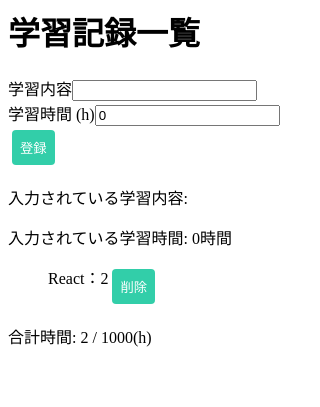
Test: StudyRecordList › 新規で学習記録が登録できること
Expected: the heading "学習記録一覧" is shown, [8,16,200,52]
Expected: the number of list items is 1, [48,269,155,304]
In the field: (164, 90) [72,80,257,101], type "Jest"
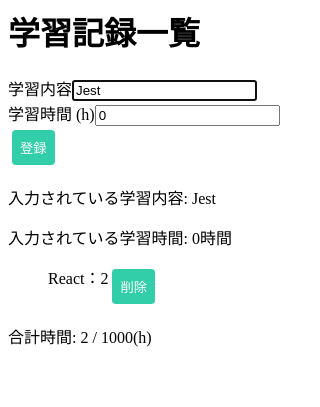
Replace the text in the number field with "3": (187, 115) [95,105,280,126]
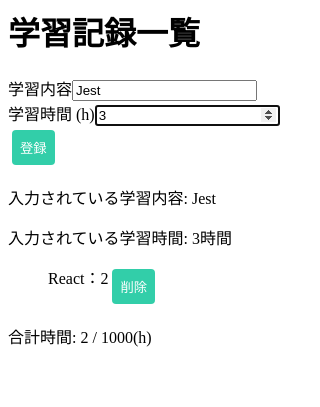
Click the button "登録": (33, 147) [12,130,55,165]
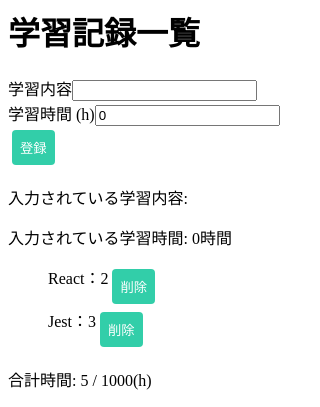
Expected: the number of list items is 2, [48,269,155,304]; [48,312,143,347]
